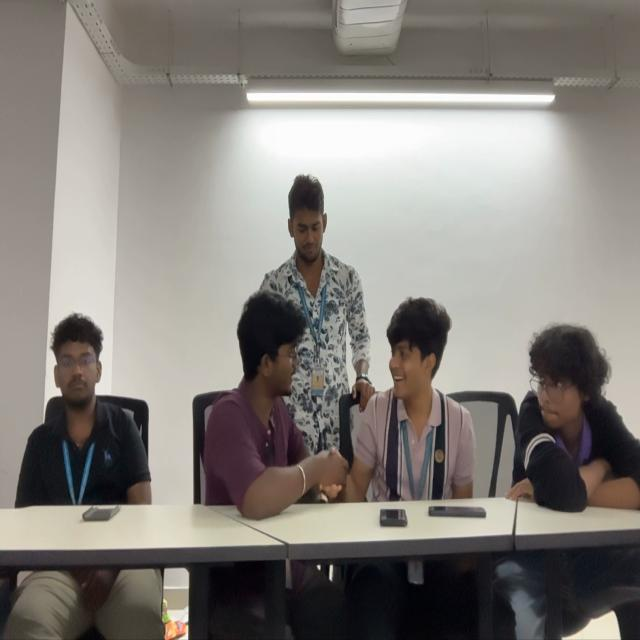Isolated: (21, 317, 152, 500), (517, 323, 640, 509)
socializing: (221, 172, 476, 496)
